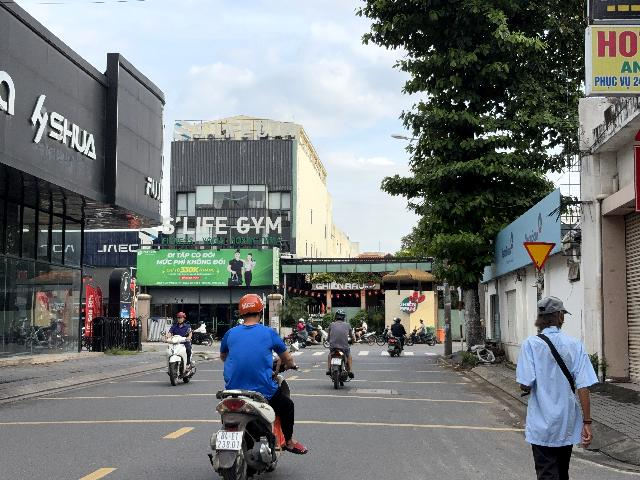giao-nhau-voi-duong-uu-tien: (523, 242, 556, 270)
